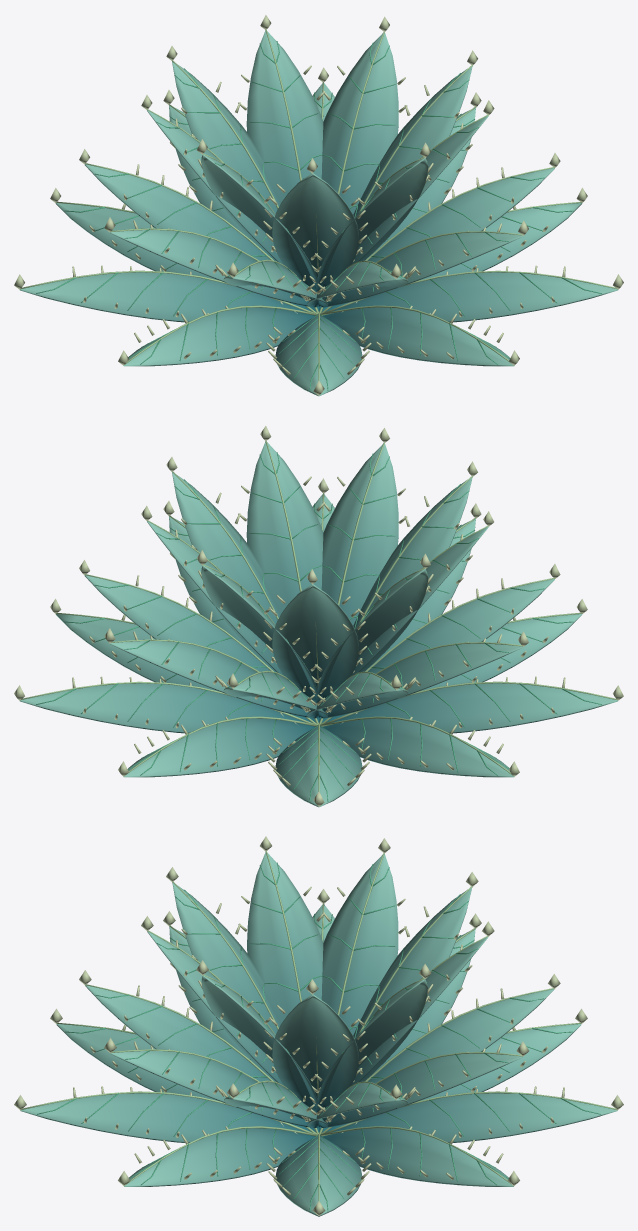
Rendered from enchanted-agave.glb.
3 views of the same model, one above another, from view 1: azimuth 30°, elevation 25°; view 2: azimuth 150°, elevation 25°; view 3: azimuth 270°, elevation 25° (orthographic).
Parts seen in each view (by area): view 1: enchanted-agave-sculpted-details; view 2: enchanted-agave-sculpted-details; view 3: enchanted-agave-sculpted-details.
Part boxes in pixels (left/top/right/bottom): enchanted-agave-sculpted-details: left=14, top=15, right=623, bottom=396; enchanted-agave-sculpted-details: left=14, top=426, right=623, bottom=807; enchanted-agave-sculpted-details: left=14, top=836, right=623, bottom=1216.
Bounding box in the file's own units: 2.35 × 1 × 2.38.
